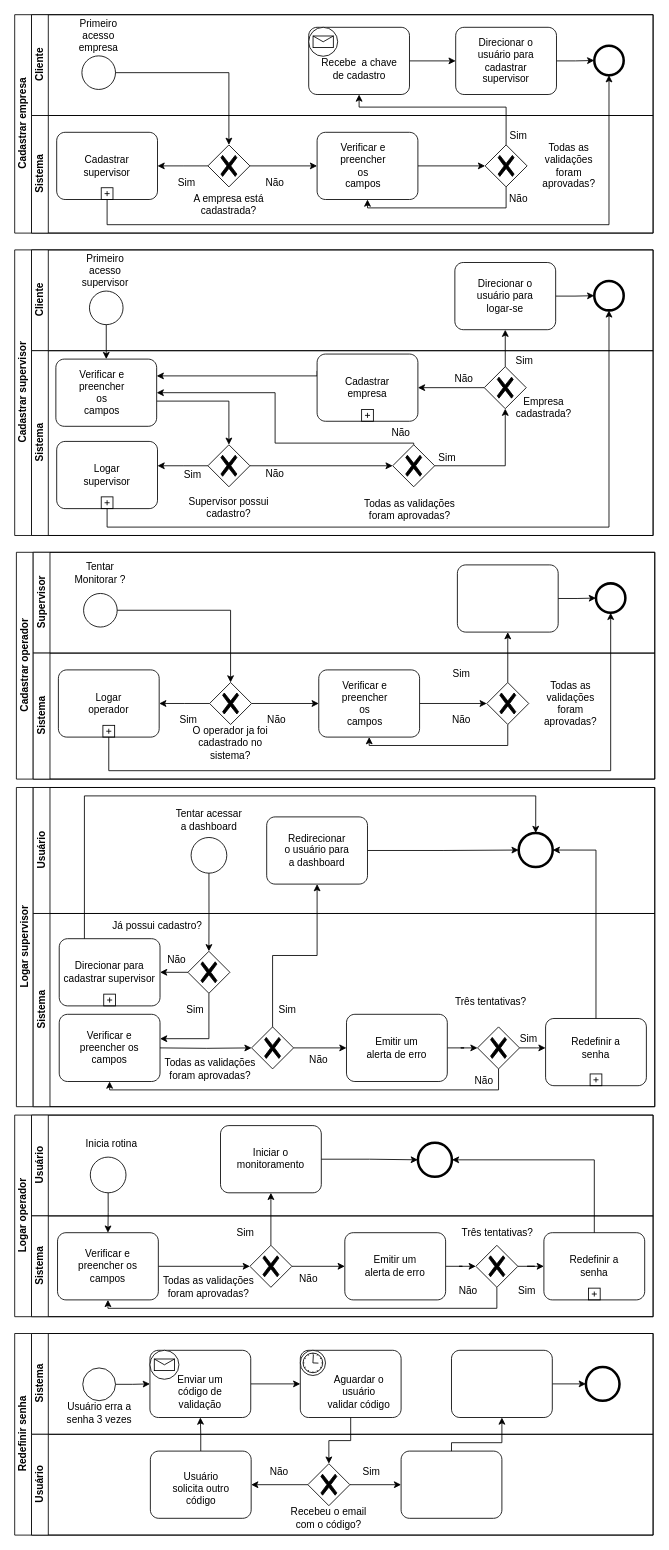
The diagram is 669 pixels wide and 1550 high, and some of its shapes have lost their labels. The centre of each missing label's shape, as x and y in pixels:
Alerta: "Senha redefinida com sucesso", redirecionar para o logar-se: point 501,1383
confirmar o código e redefine a senha: point 451,1484
Liberar acesso ao operador: point 507,598
